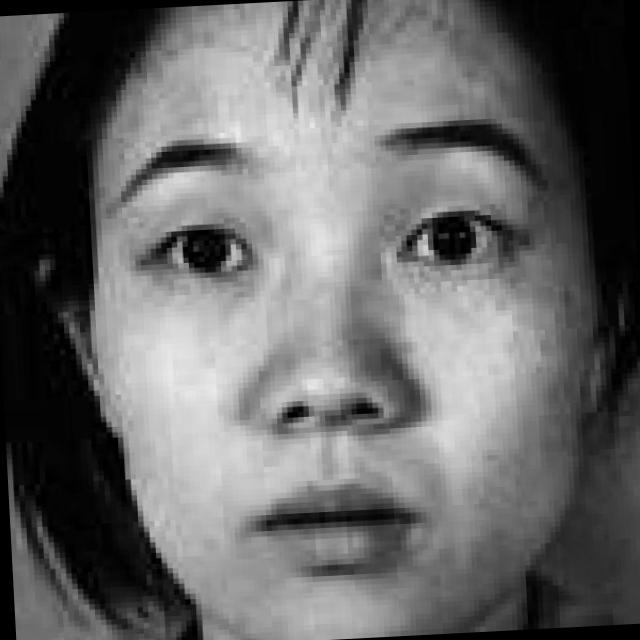surprise: (81, 11, 584, 640)
